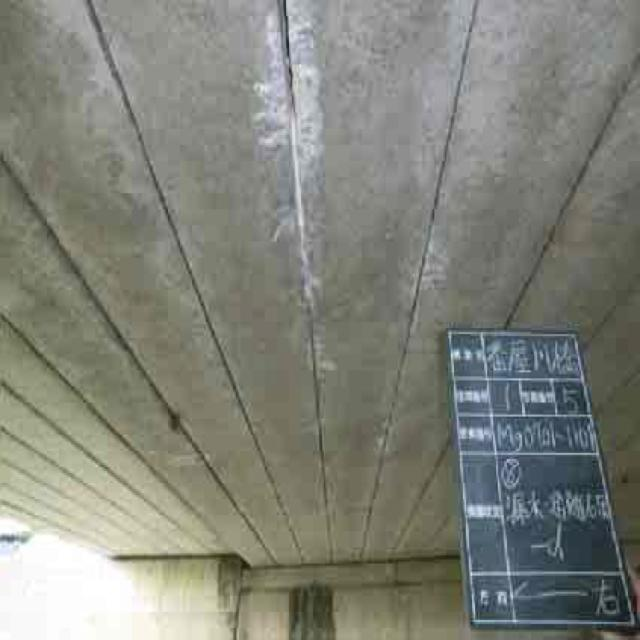freelime: (264, 27, 333, 252)
